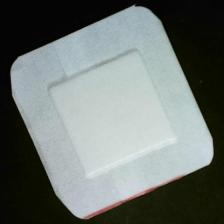Dressing: (7, 5, 215, 221)
Red_T: (78, 167, 201, 223)
